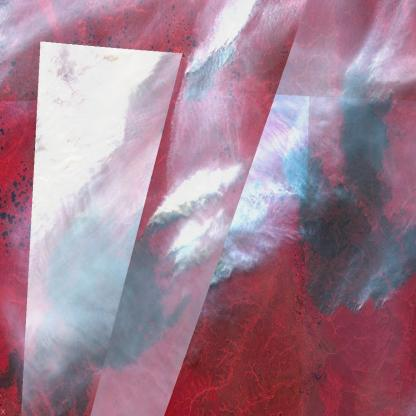fire: (140, 191, 197, 286), (333, 55, 400, 114), (322, 292, 392, 326), (200, 37, 239, 78)
